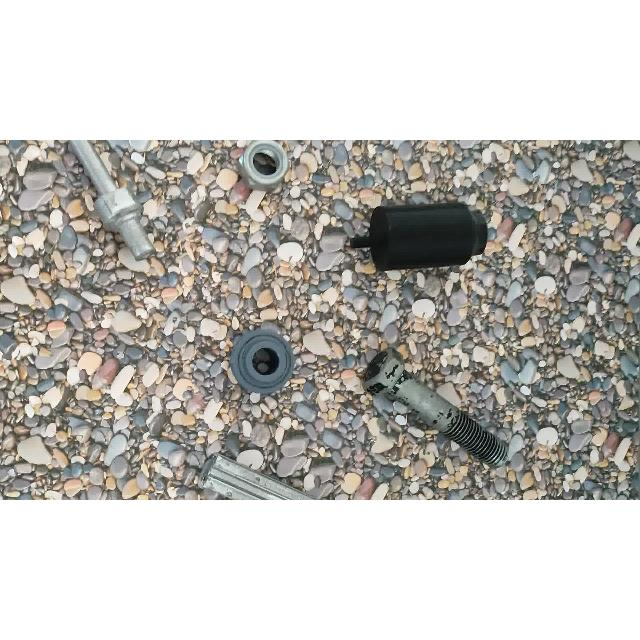Axis2: (65, 140, 158, 264)
Bearing2: (227, 326, 297, 394)
F20_20_G: (195, 450, 317, 500)
M20: (237, 140, 296, 192)
M20_100: (356, 345, 510, 469)
Motor2: (346, 200, 490, 274)
